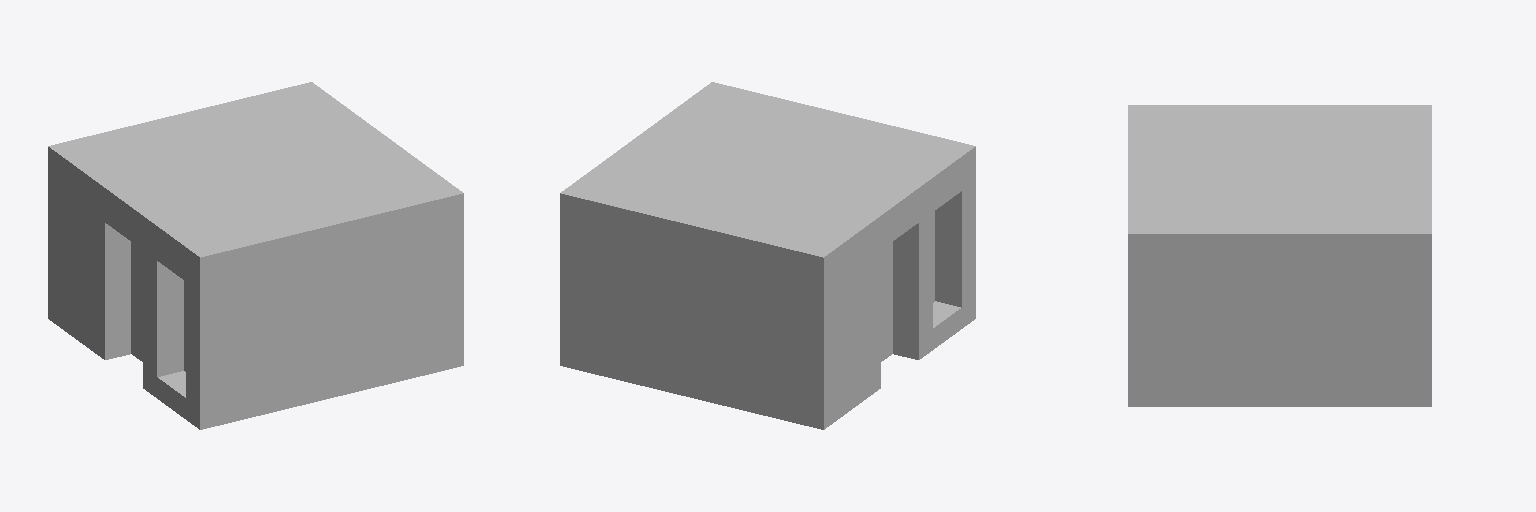
3 renders of one model, left to right at view 1: azimuth 30°, elevation 25°; view 2: azimuth 150°, elevation 25°; view 3: azimuth 270°, elevation 25°, orthographic.
Parts seen in each view (by area): view 1: G-__556176_G-__556176_Brick, G-__556176_G-__556176_Glass; view 2: G-__556176_G-__556176_Brick, G-__556176_G-__556176_Glass; view 3: G-__556176_G-__556176_Brick.
Part boxes in pixels (x1,y1,x2,y2): G-__556176_G-__556176_Brick: (48,82,463,429); G-__556176_G-__556176_Glass: (131,242,185,371); G-__556176_G-__556176_Brick: (560,82,975,429); G-__556176_G-__556176_Glass: (881,211,934,361); G-__556176_G-__556176_Brick: (1128,105,1431,406).
Size of the model in its own units: 1 by 0.625 by 1.